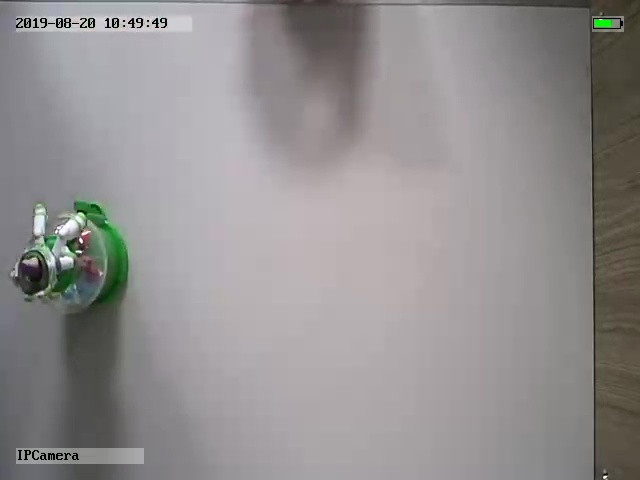buzz: (9, 199, 132, 316)
